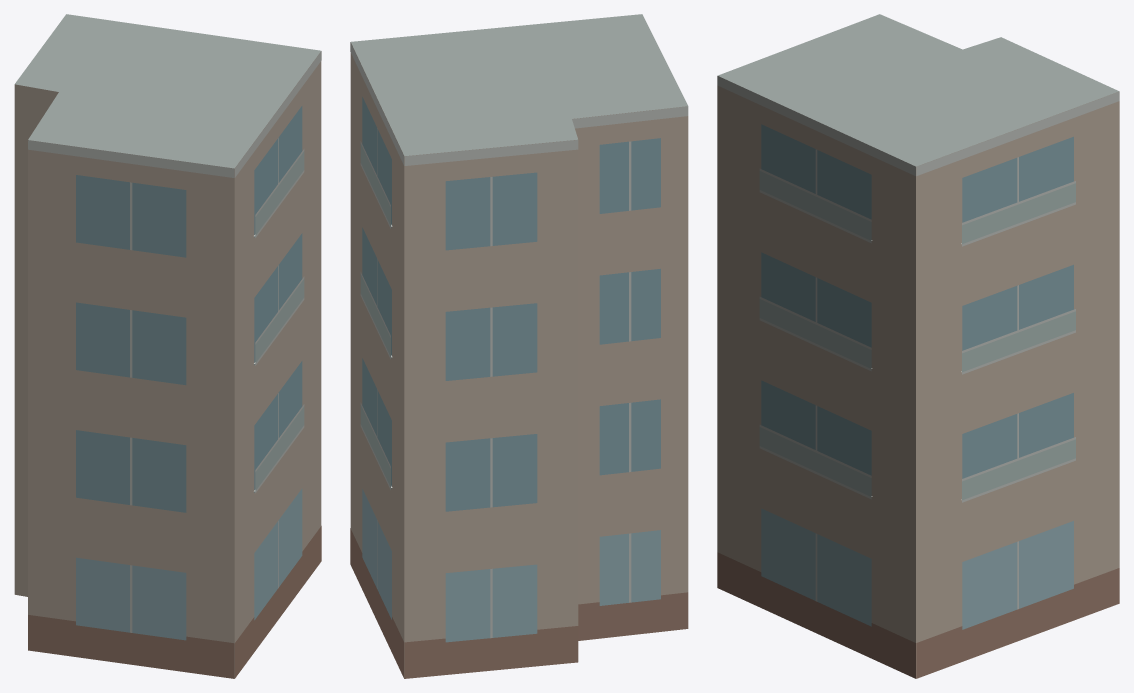
File: survey-upis-32463926.glb
3 renders of one model, left to right at view 1: azimuth 30°, elevation 25°; view 2: azimuth 150°, elevation 25°; view 3: azimuth 270°, elevation 25°, orthographic. The views are drawn at different scales.
Visible parts, largest first — view 1: survey-upis-32463926.tmp; view 2: survey-upis-32463926.tmp; view 3: survey-upis-32463926.tmp.
Part boxes in pixels (bbox=[...]): survey-upis-32463926.tmp: bbox=[14, 14, 321, 678]; survey-upis-32463926.tmp: bbox=[350, 14, 688, 678]; survey-upis-32463926.tmp: bbox=[717, 14, 1119, 678].
Bounding box in the file's own units: 8.22 × 12.85 × 9.15.
